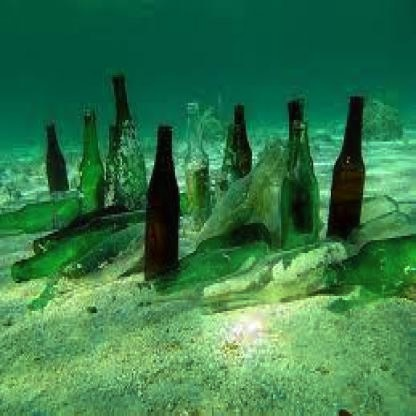gbottle: (13, 210, 140, 285), (156, 225, 271, 294), (281, 101, 321, 253), (146, 129, 182, 283), (326, 234, 416, 294), (328, 97, 364, 238), (111, 77, 144, 214), (2, 191, 82, 234), (80, 112, 104, 214), (47, 126, 68, 202)
